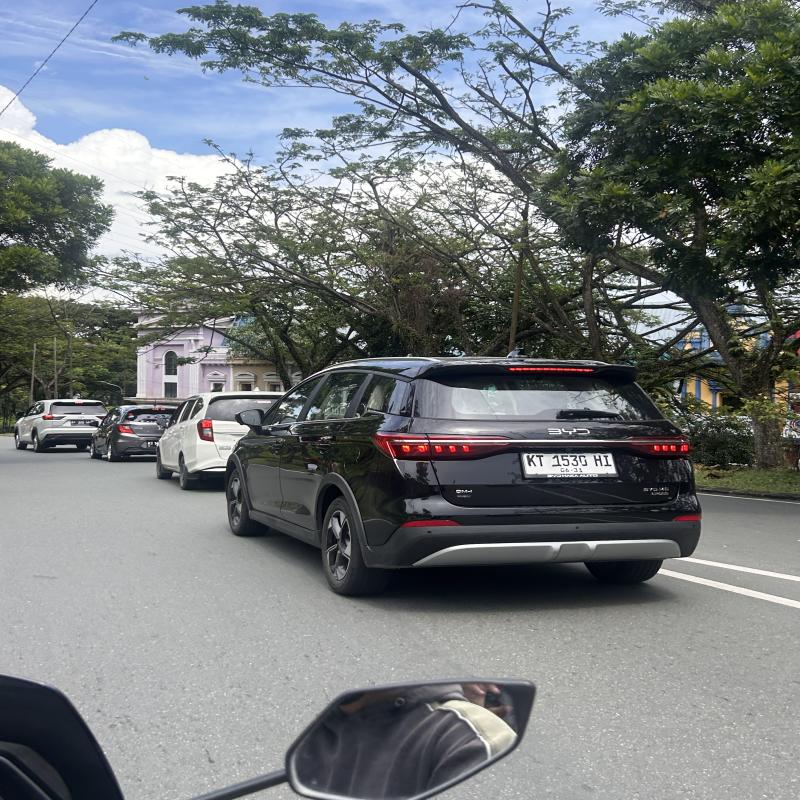license plate on a car: (520, 452, 619, 479)
